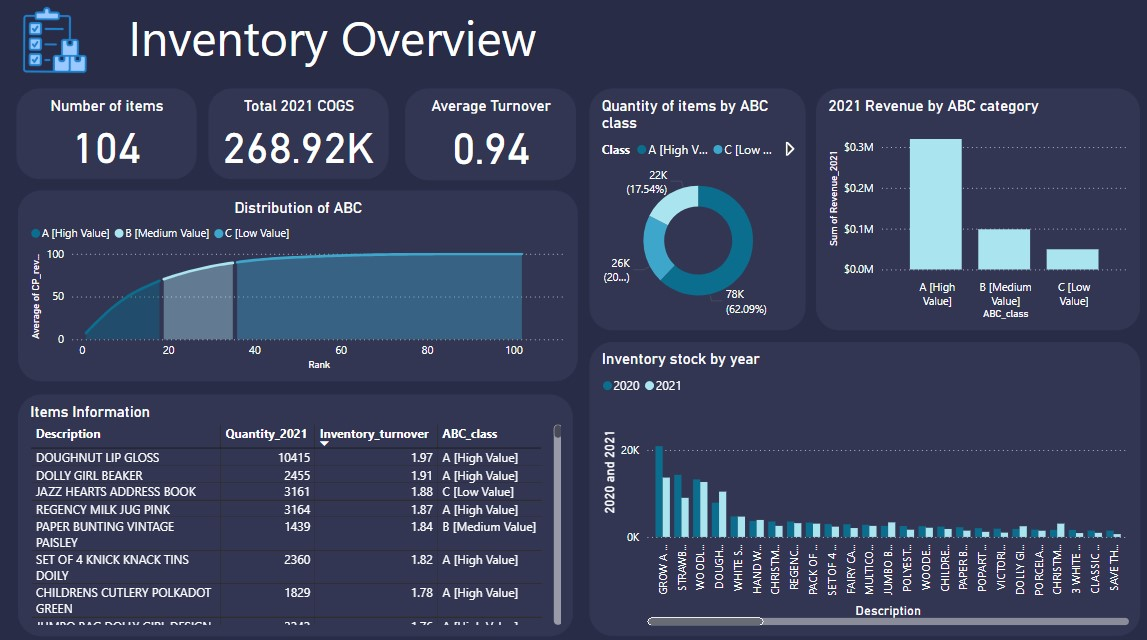

The dashboard page shown, as its layout file describes it:
{"tool":"powerbi","page":{"name":"inventory overview","canvas":[1280,720],"ordinal":0},"visuals":[{"type":"textbox","box":[101.7,3.3,535,91.7],"z":0},{"type":"card","title":"Number of items","fields":{"Values":["CountNonNull(Stock.SKU-ID)"]},"box":[18.5,102.2,199.7,100.7],"z":1000},{"type":"card","title":"Total 2021 COGS","fields":{"Values":["Sum(Stock.Total_COGS)"]},"box":[231,102.2,199.7,100.7],"z":2000},{"type":"card","title":"Average Turnover","fields":{"Values":["Avg(Turnover.Inventory_turnover)"]},"box":[450,101.7,190,101.7],"z":3000},{"type":"stackedAreaChart","title":"Distribution of ABC","fields":{"Series":["ABC.ABC"],"Y":["Avg(ABC.CP_revenue)"],"Category":["ABC.Rank"]},"box":[20,215,621.7,211.7],"z":4000},{"type":"clusteredColumnChart","title":"2021 Revenue by ABC category","fields":{"Category":["ABC.ABC"],"Y":["Sum(Stock.Revenue_2021)"]},"box":[906.7,101.7,360,268.3],"z":5000},{"type":"tableEx","title":"Items Information","fields":{"Values":["Turnover.Description","Stock.Quantity_2021","Sum(Turnover.Inventory_turnover)","ABC.ABC_class"]},"box":[20,441.7,616.7,268.3],"z":6000},{"type":"donutChart","title":"Quantity of items by ABC class","fields":{"Category":["ABC.ABC"],"Y":["Sum(Stock.Quantity_2021)"]},"box":[655,101.7,240,268.3],"z":7000},{"type":"clusteredColumnChart","title":"Inventory stock by year","fields":{"Category":["Stock.Description"],"Y":["Sum(Stock.2020_units_sold)","Sum(Stock.Quantity_2021)"]},"box":[655,383.3,611.7,326.7],"z":8000},{"type":"image","box":[10,0,101.7,95],"z":9000}]}

Visuals, with their boxes in screenshot pixels (x1, y1, x2, y2), scaled from the page's 1280x720 canvas onto the 1147x640 screenshot:
textbox: locate(91, 3, 571, 84)
"Number of items" card: locate(17, 91, 196, 180)
"Total 2021 COGS" card: locate(207, 91, 386, 180)
"Average Turnover" card: locate(403, 90, 574, 181)
"Distribution of ABC" stackedAreaChart: locate(18, 191, 575, 379)
"2021 Revenue by ABC category" clusteredColumnChart: locate(812, 90, 1135, 329)
"Items Information" tableEx: locate(18, 393, 571, 631)
"Quantity of items by ABC class" donutChart: locate(587, 90, 802, 329)
"Inventory stock by year" clusteredColumnChart: locate(587, 341, 1135, 631)
image: locate(9, 0, 100, 84)
